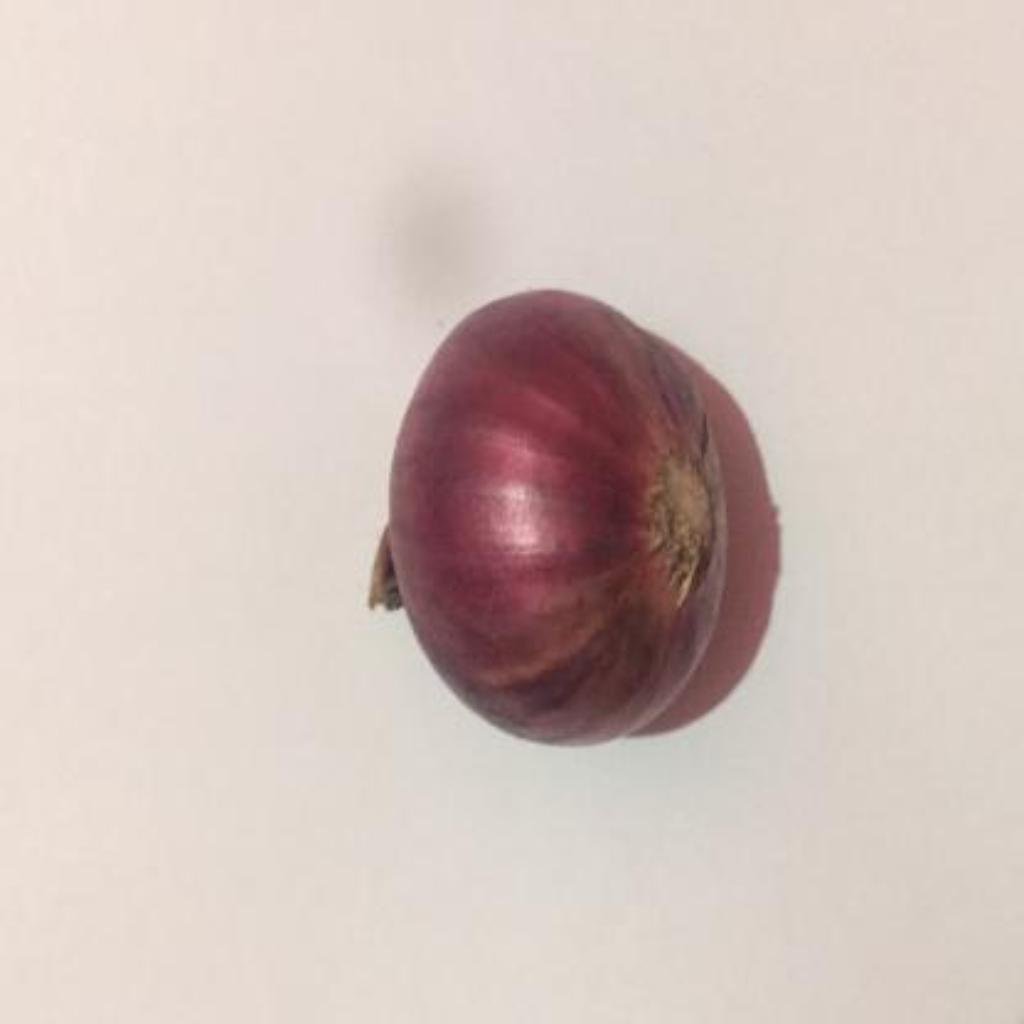Onion: (384, 290, 726, 745)
